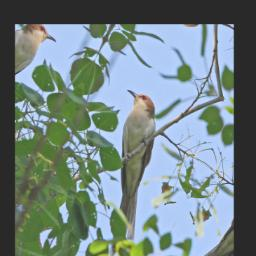Cuckoo: (59, 83, 194, 256)
